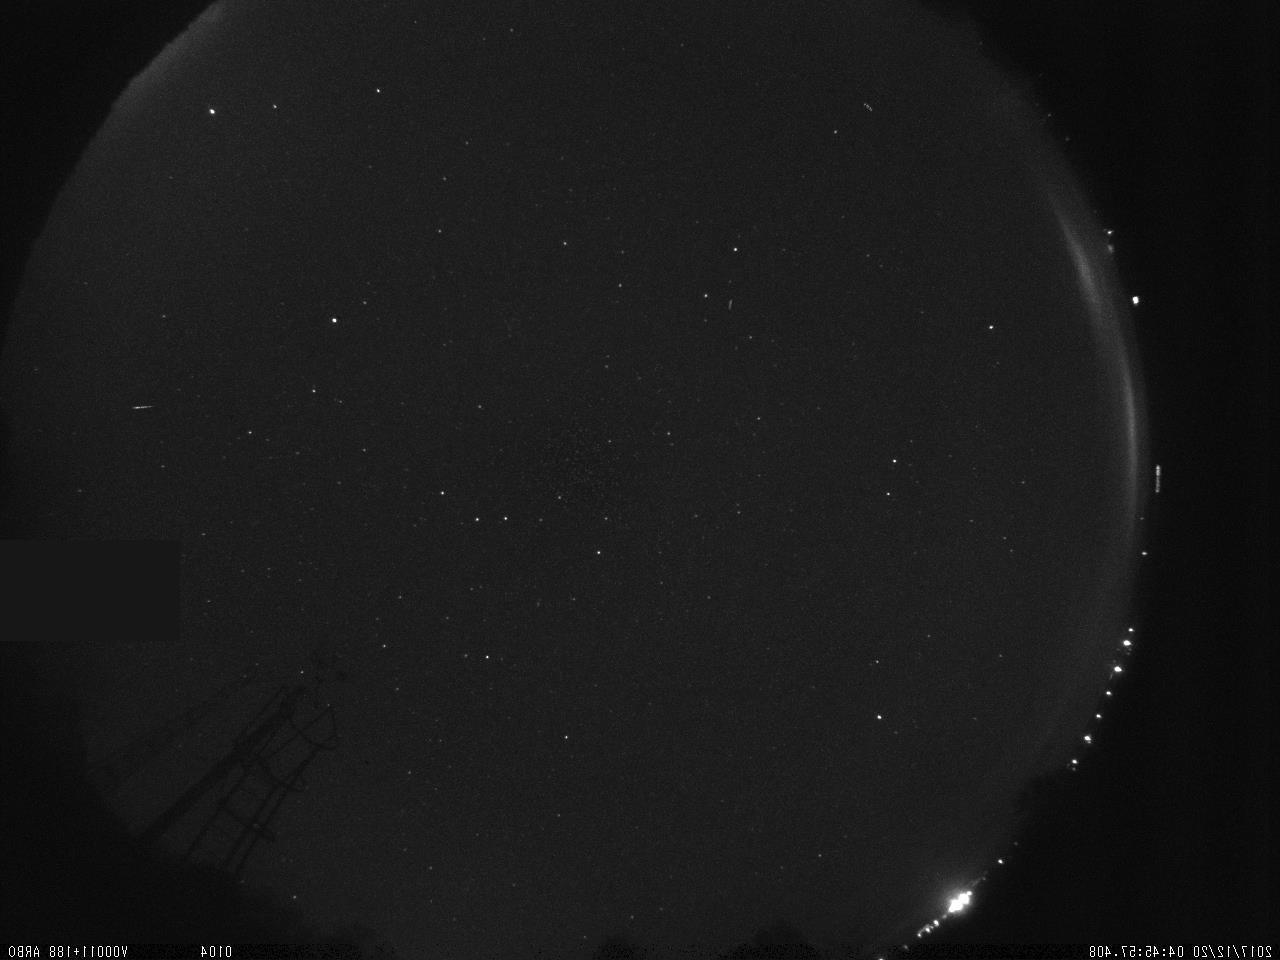meteor: (124, 400, 157, 411)
